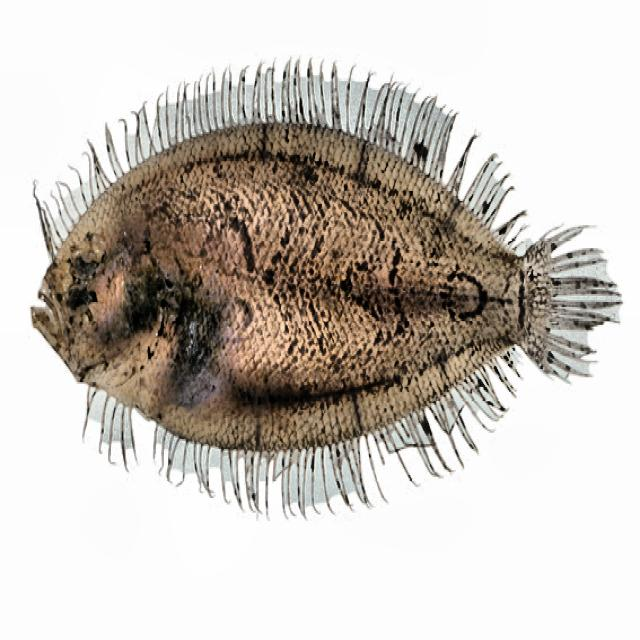fish: (31, 55, 623, 521)
